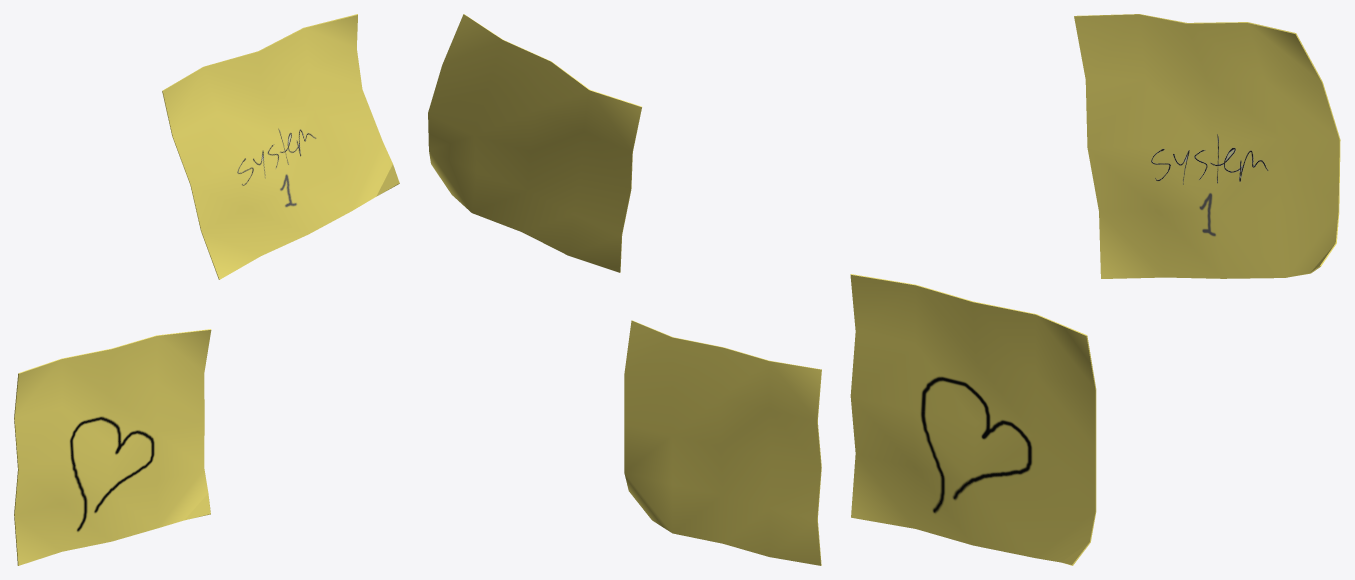
Rendered from Posit.FBX.
3 views of the same model, side by side, from view 1: azimuth 30°, elevation 25°; view 2: azimuth 150°, elevation 25°; view 3: azimuth 330°, elevation 25° (orthographic). The views are drawn at different scales.
Parts seen in each view (by area): view 1: Posit 2, Posit 1; view 2: Posit 1, Posit 2; view 3: Posit 2, Posit 1.
Part boxes in pixels (box(x1,y1,x2,y2)): Posit 2: box(162, 14, 399, 279); Posit 1: box(14, 329, 211, 565); Posit 1: box(624, 320, 821, 565); Posit 2: box(428, 14, 641, 272); Posit 2: box(1074, 14, 1340, 278); Posit 1: box(850, 274, 1096, 565).
Size of the model in its own units: 15.89 by 18.52 by 2.29.
1 material, 1 textured.
